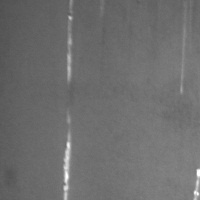scratches: (62, 0, 77, 85), (59, 119, 74, 199)
